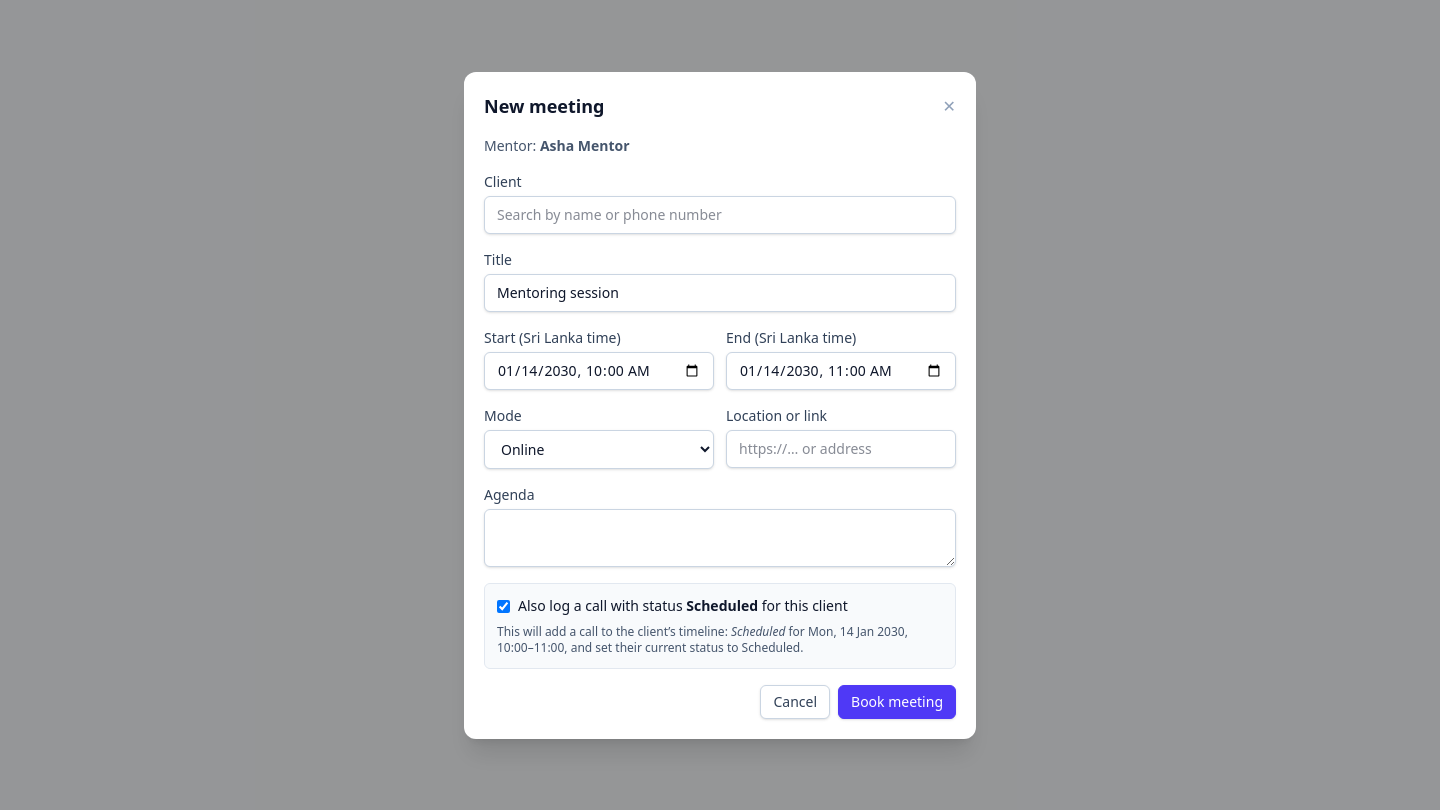
New meeting modal › searches clients by name/phone, selects one, and books with the right payload
This screenshot has width=1440, height=810.
Step 1. Type "nimal" into the field labelled "Client" → (720, 214), box [484,196,956,234]
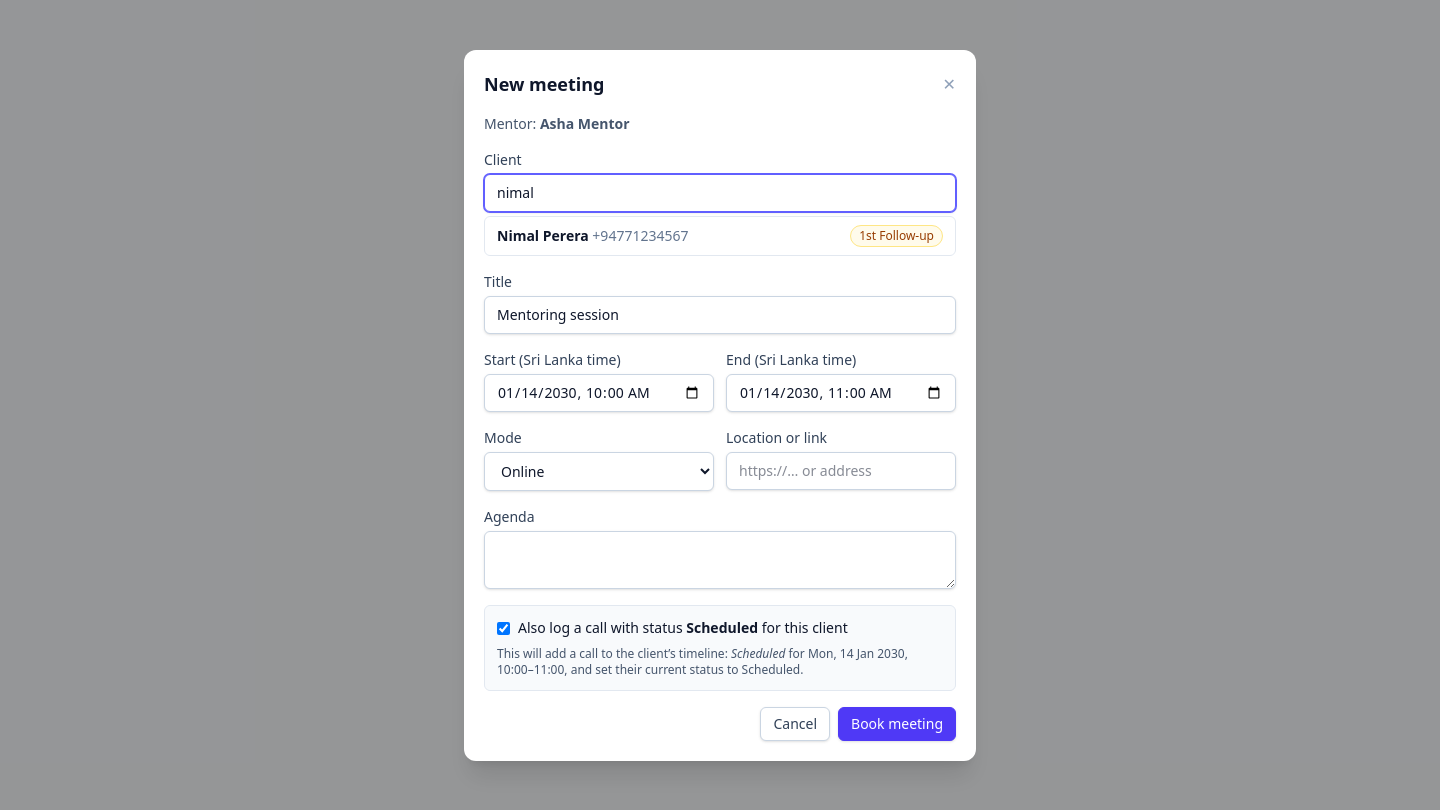
Step 2. Click the option "Nimal Perera +94771234567 1st Follow-up" → (543, 235), box [485,216,955,254]
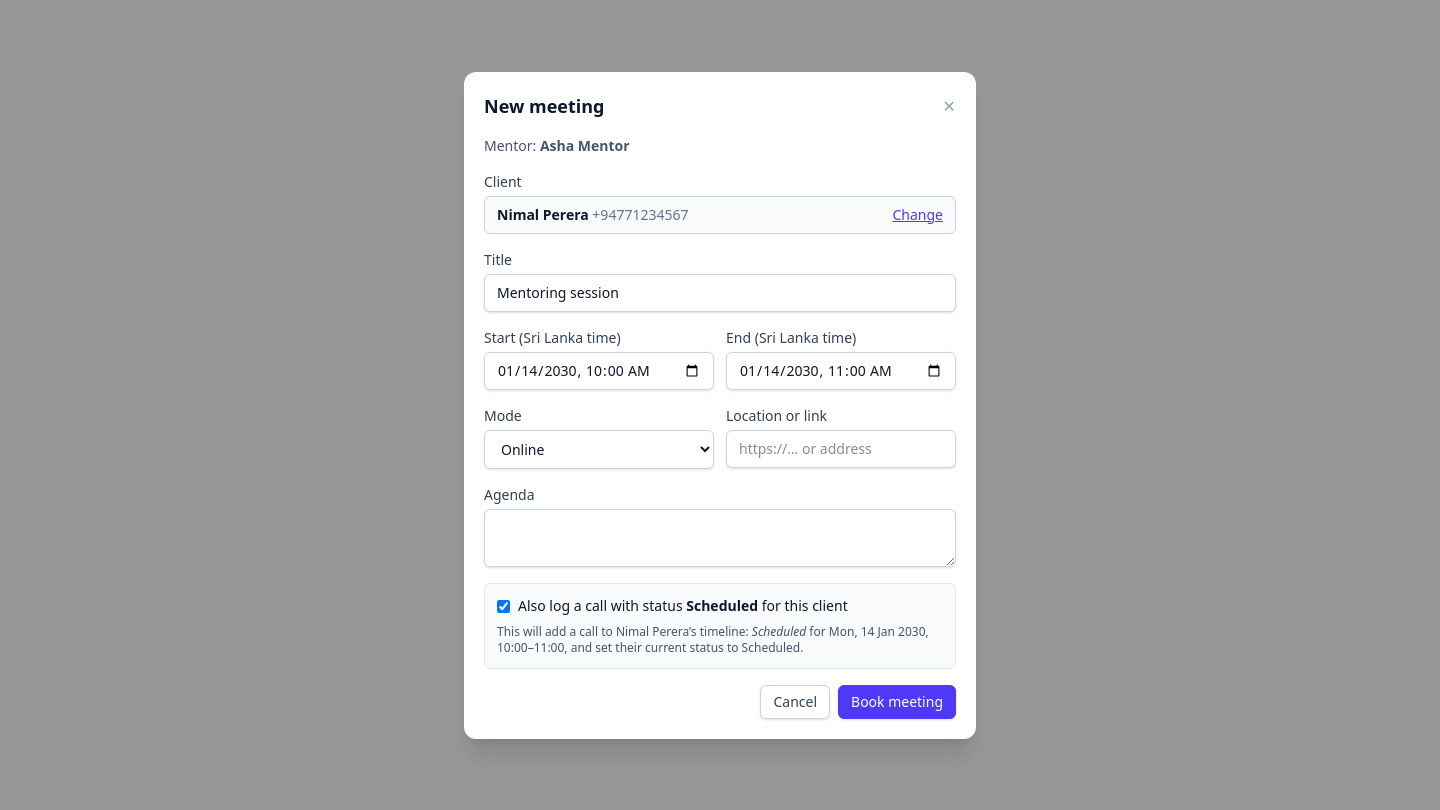
Check: the text "Nimal Perera" is shown, box [497,204,589,224]
Check: the text "+94771234567" is shown, box [592,204,688,224]
Step 3. Click the button "Book meeting" → (897, 702), box [838,684,956,718]
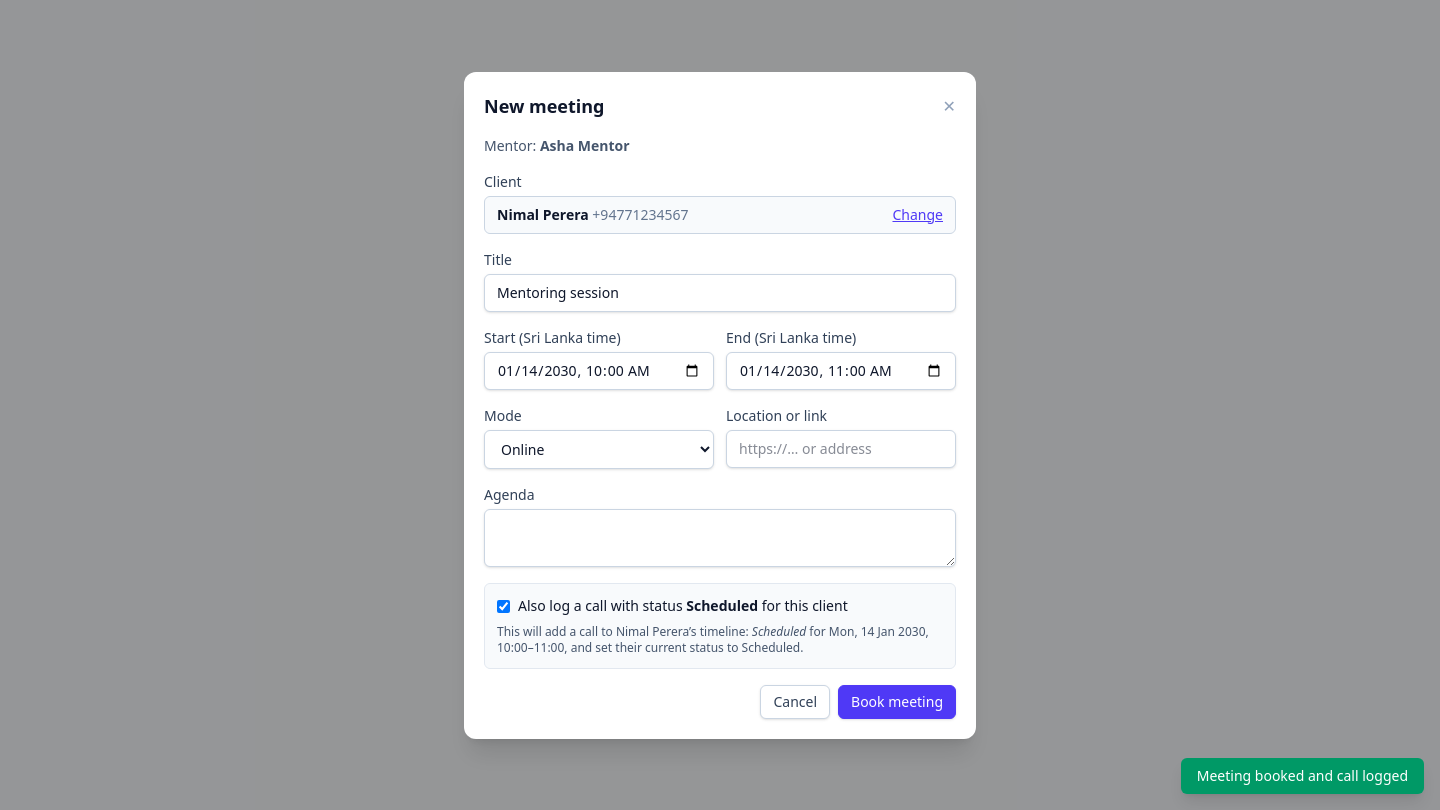
Check: the text "Meeting booked and call logged" is shown, box [1181,758,1424,794]
